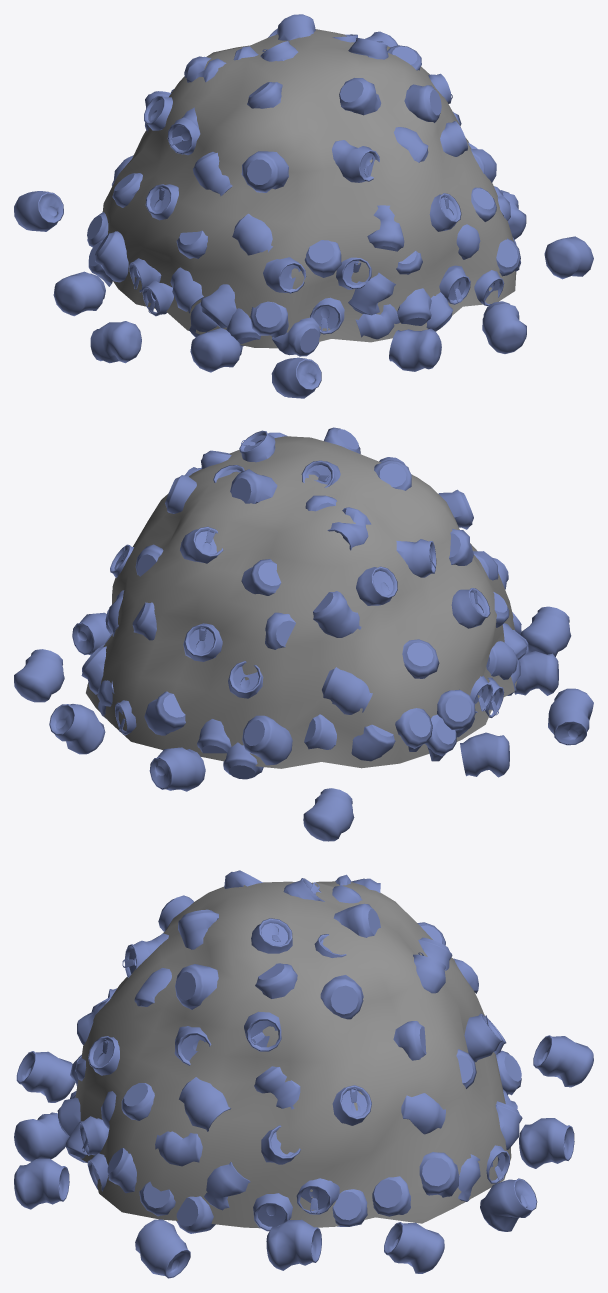
Rendered from Mode_TasCanette.fbx.
3 renders of one model, top to bottom at view 1: azimuth 30°, elevation 25°; view 2: azimuth 150°, elevation 25°; view 3: azimuth 270°, elevation 25°, orthographic. The views are drawn at different scales.
Parts seen in each view (by area): view 1: tas1, canettes_tas; view 2: tas1, canettes_tas; view 3: tas1, canettes_tas.
Boxes of the visible parts, x1,y1,x2,y2 form: tas1: (102,29,516,348); canettes_tas: (14,14,593,398); tas1: (86,436,517,768); canettes_tas: (14,427,593,841); tas1: (75,881,511,1228); canettes_tas: (14,870,593,1278).
Size of the model in its own units: 314 by 158 by 303.
